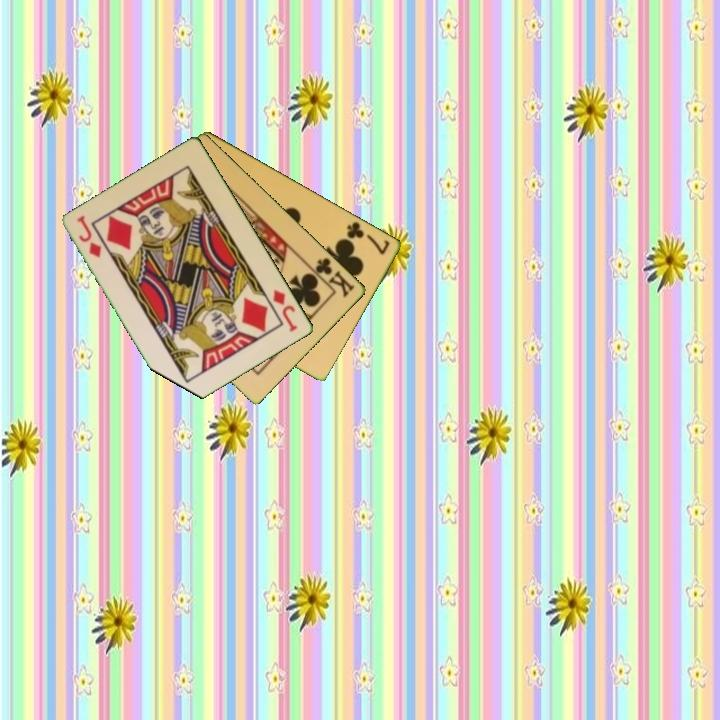7c: (343, 218, 393, 257)
Jd: (73, 212, 105, 261), (270, 286, 301, 335)
Kc: (306, 254, 358, 301)
